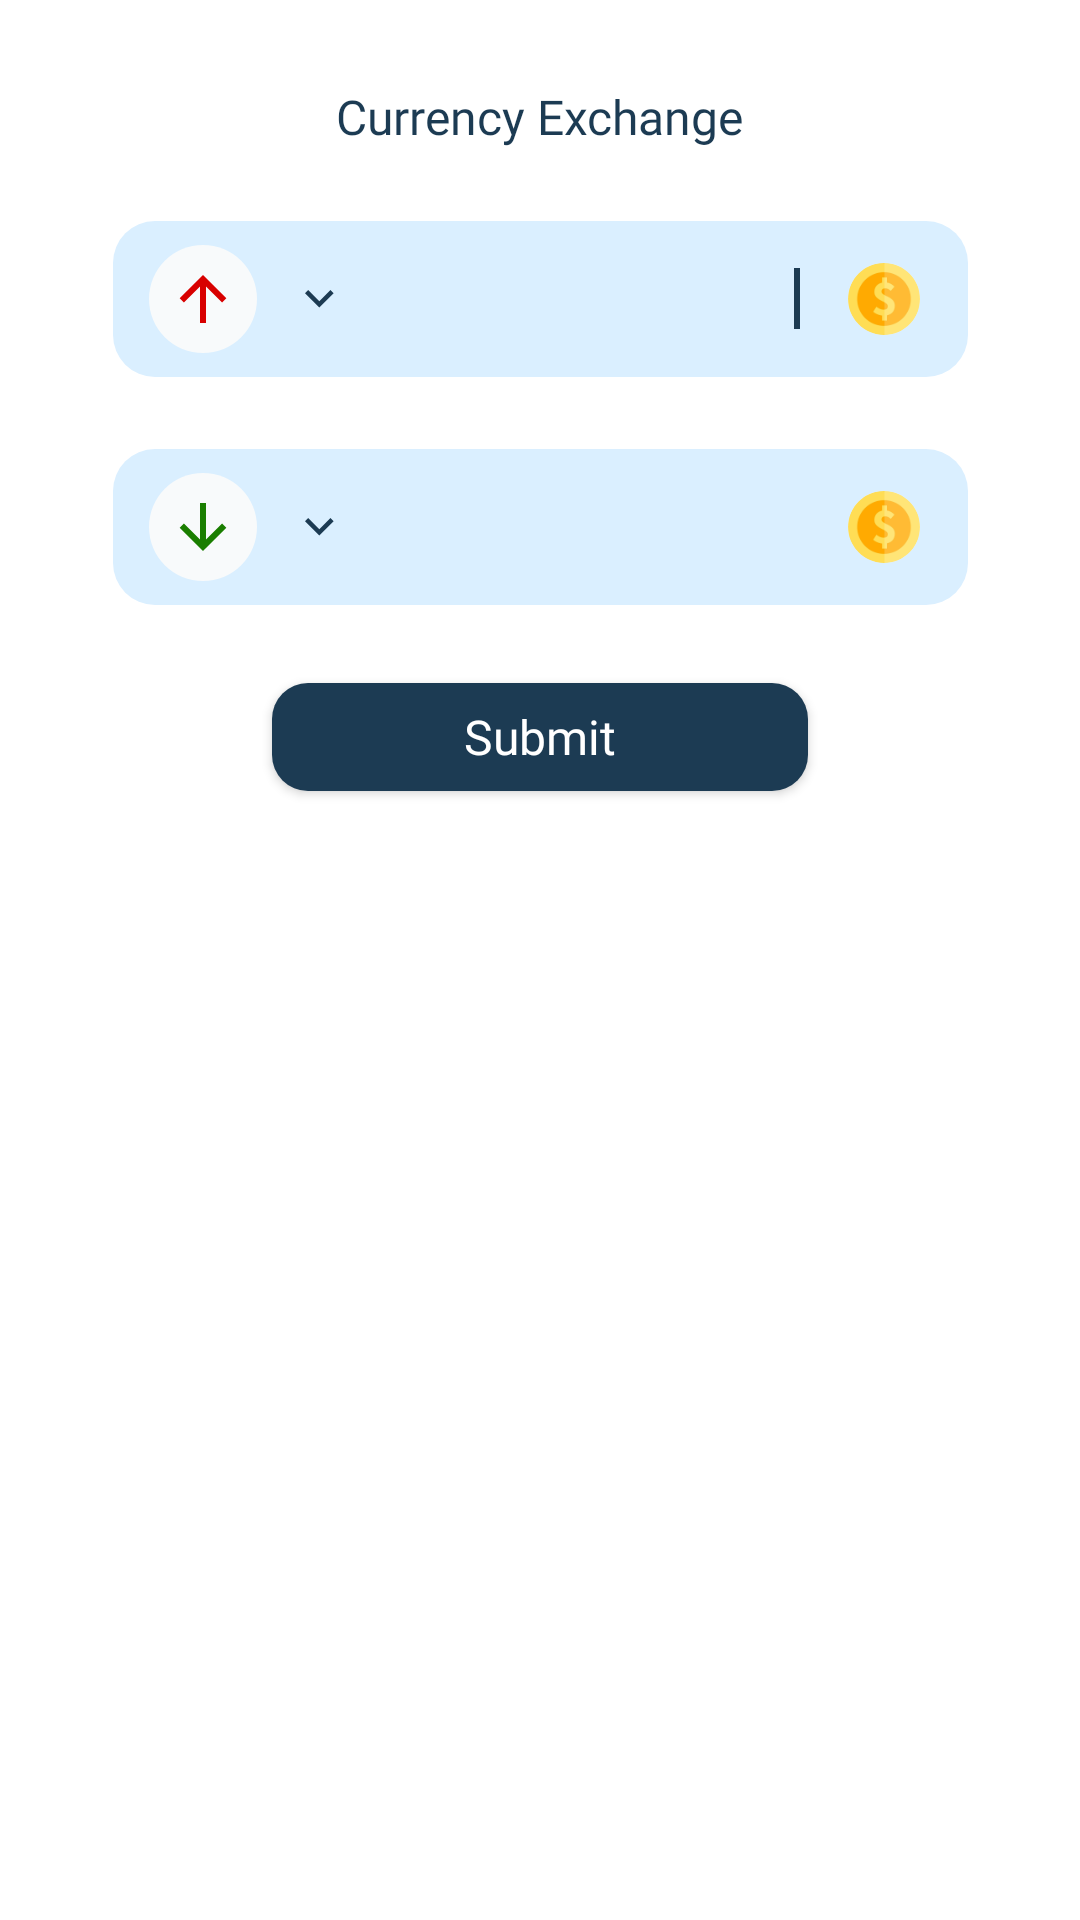

Where icons sit on this 1080 × 1920 app screen, as [left=x1, top=y1, right=x2, bottom=y2]:
coin: [left=848, top=263, right=920, bottom=335], [left=848, top=491, right=920, bottom=563]
recieve: [left=149, top=473, right=257, bottom=581]
send: [left=149, top=245, right=257, bottom=353]
